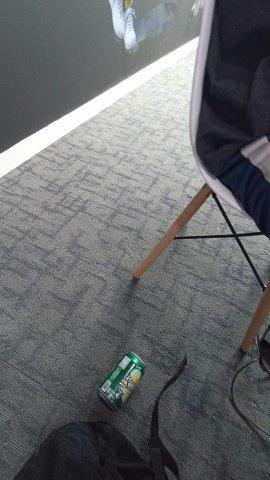kaleng: (98, 352, 147, 410)
